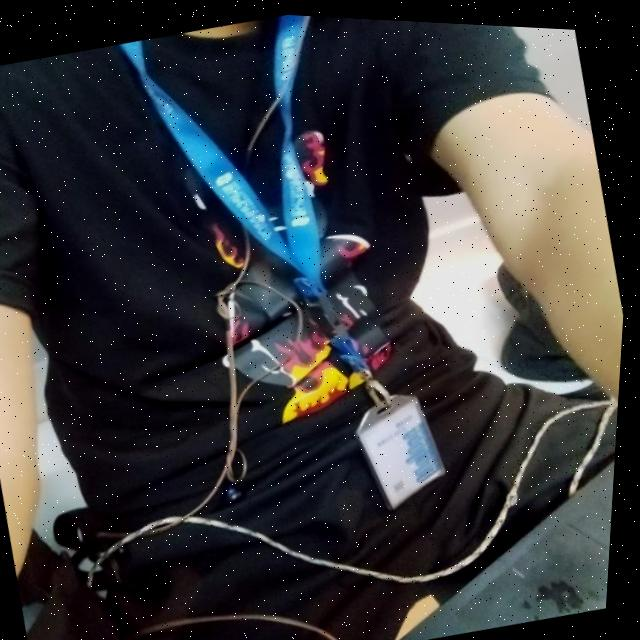id_card: (88, 5, 486, 551)
